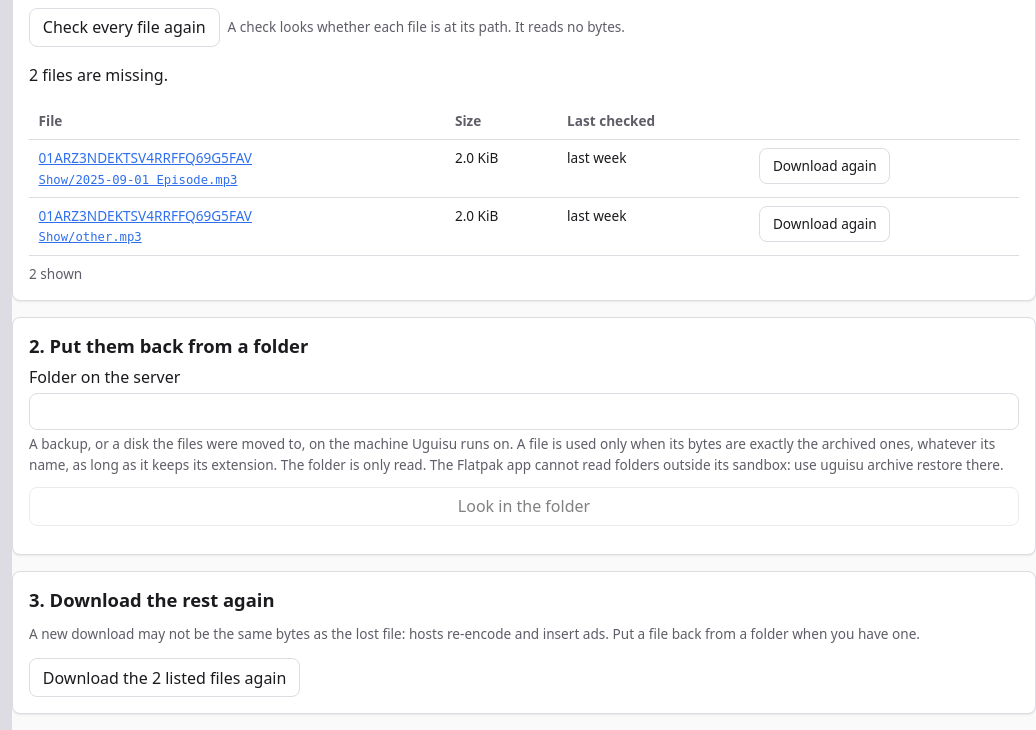
archive repair view › downloads the rest past a refusal
This screenshot has width=1036, height=730.
(page scrolled)
Click the button "Download the 2 listed files again". click: [165, 678]
box: [29, 658, 300, 697]
(page scrolled)
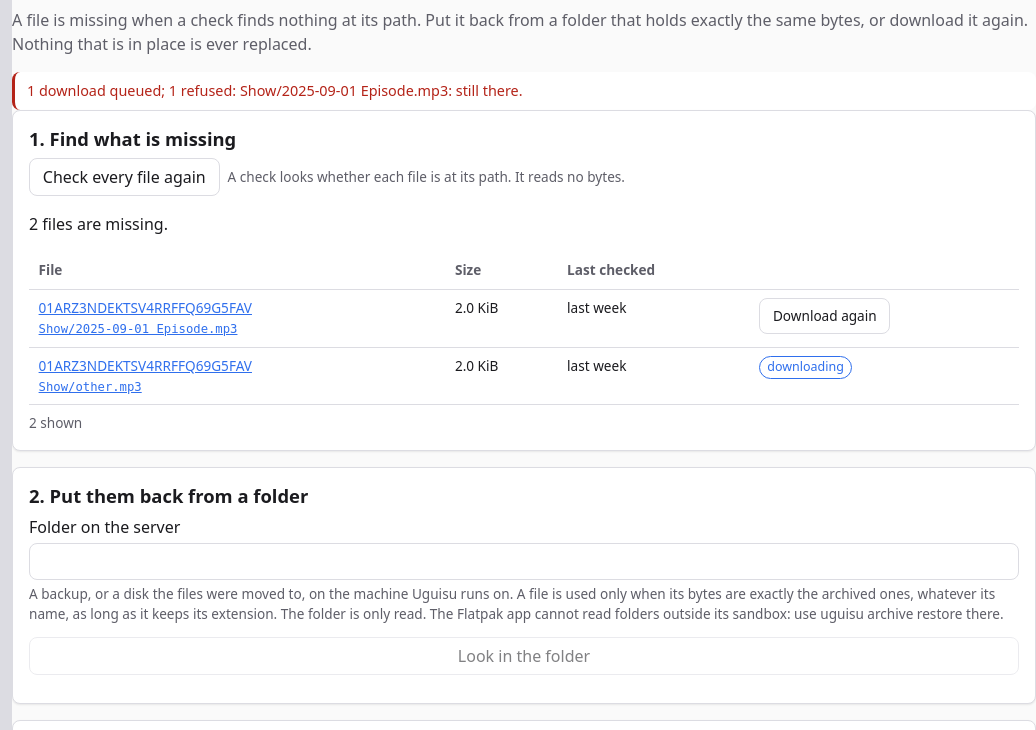
Expected: the text "1 download queued; 1 refused: Show/2025-09-01 Episode.mp3: still there." is shown, [12, 72, 1035, 110]
